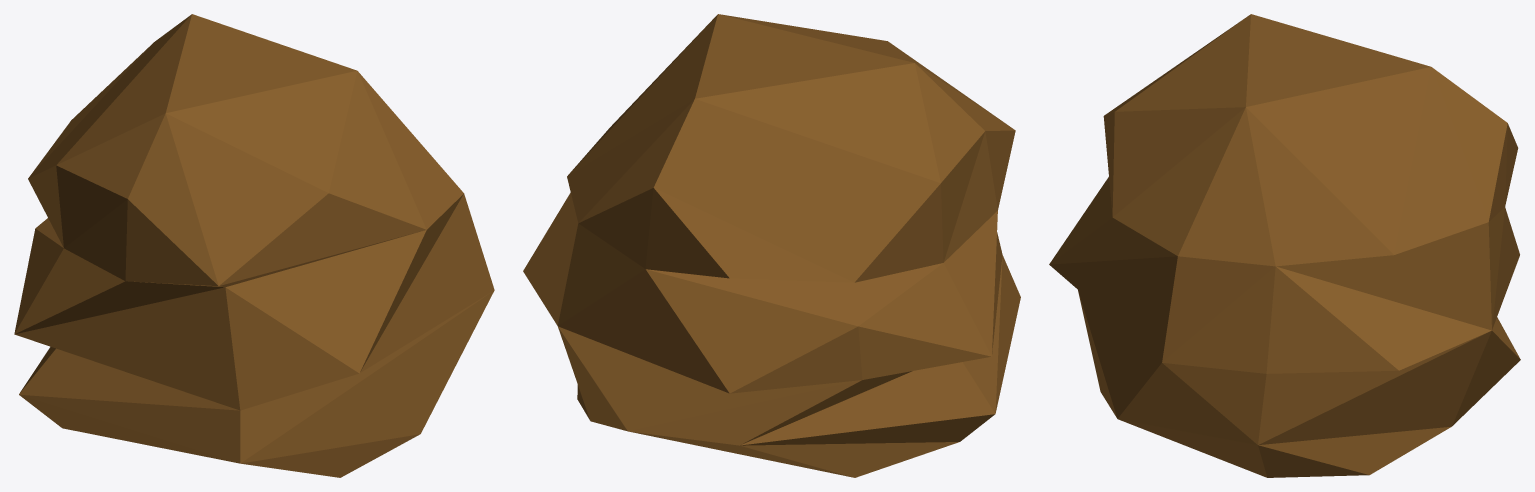
Rendered from deco_autumn_3.glb.
3 views of the same model, side by side, from view 1: azimuth 30°, elevation 25°; view 2: azimuth 150°, elevation 25°; view 3: azimuth 270°, elevation 25° (orthographic). The views are drawn at different scales.
Visible parts, largest first — view 1: lod0; view 2: lod0; view 3: lod0.
Boxes of the visible parts, x1,y1,x2,y2 form: lod0: (14, 14, 494, 477); lod0: (523, 14, 1020, 477); lod0: (1049, 14, 1520, 477).
Bounding box in the file's own units: 1.21 × 0.931 × 1.17.
